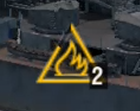2fire: (33, 53, 107, 87)
